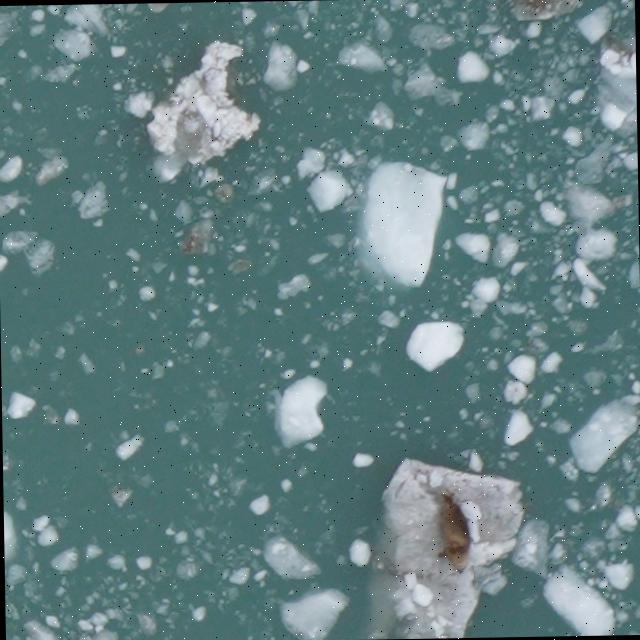seal: (429, 486, 474, 581)
